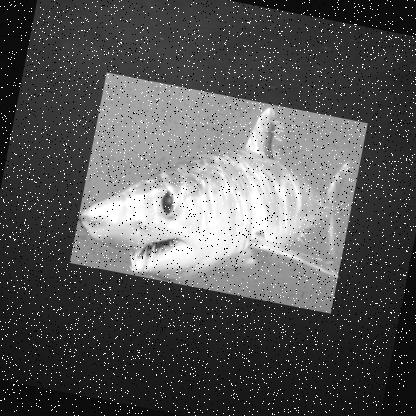mako-shark: (69, 72, 368, 314)
